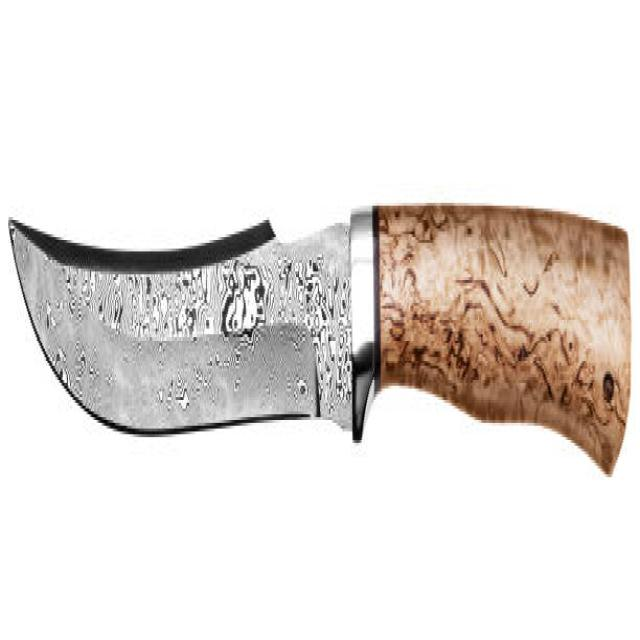knife: (7, 179, 634, 497)
